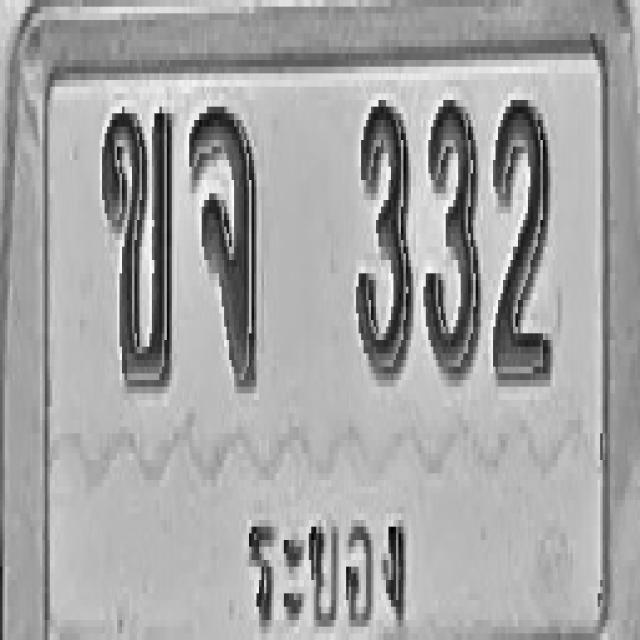11KhorKhai: (101, 103, 173, 390)
17ChorChan: (188, 103, 258, 390)
2: (492, 93, 552, 380)
3: (423, 93, 481, 380), (355, 93, 412, 380)
Rayong: (241, 484, 415, 640)
